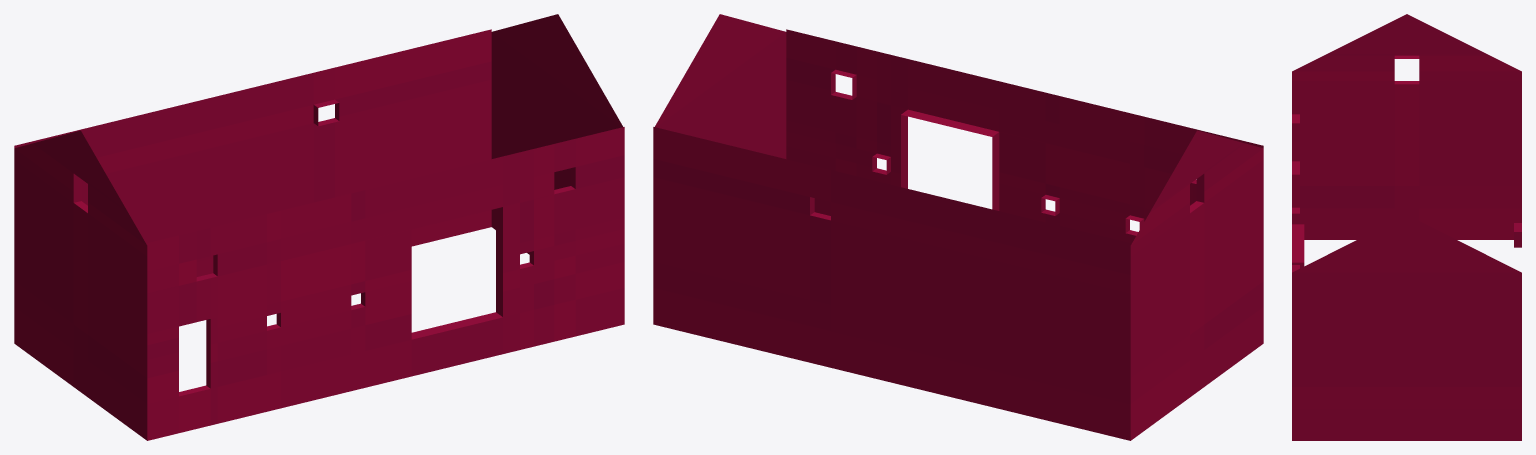
Rendered from SM_Bld_010_Masonry.glb.
3 views of the same model, side by side, from view 1: azimuth 30°, elevation 25°; view 2: azimuth 150°, elevation 25°; view 3: azimuth 270°, elevation 25° (orthographic). The views are drawn at different scales.
Parts seen in each view (by area): view 1: SM_Bld_010_Masonry; view 2: SM_Bld_010_Masonry; view 3: SM_Bld_010_Masonry.
Part boxes in pixels (box(x1,y1,x2,y2)): SM_Bld_010_Masonry: box(14, 14, 624, 440); SM_Bld_010_Masonry: box(653, 14, 1263, 440); SM_Bld_010_Masonry: box(1292, 14, 1521, 440).
Size of the model in its own units: 13.58 by 7.12 by 6.56.
